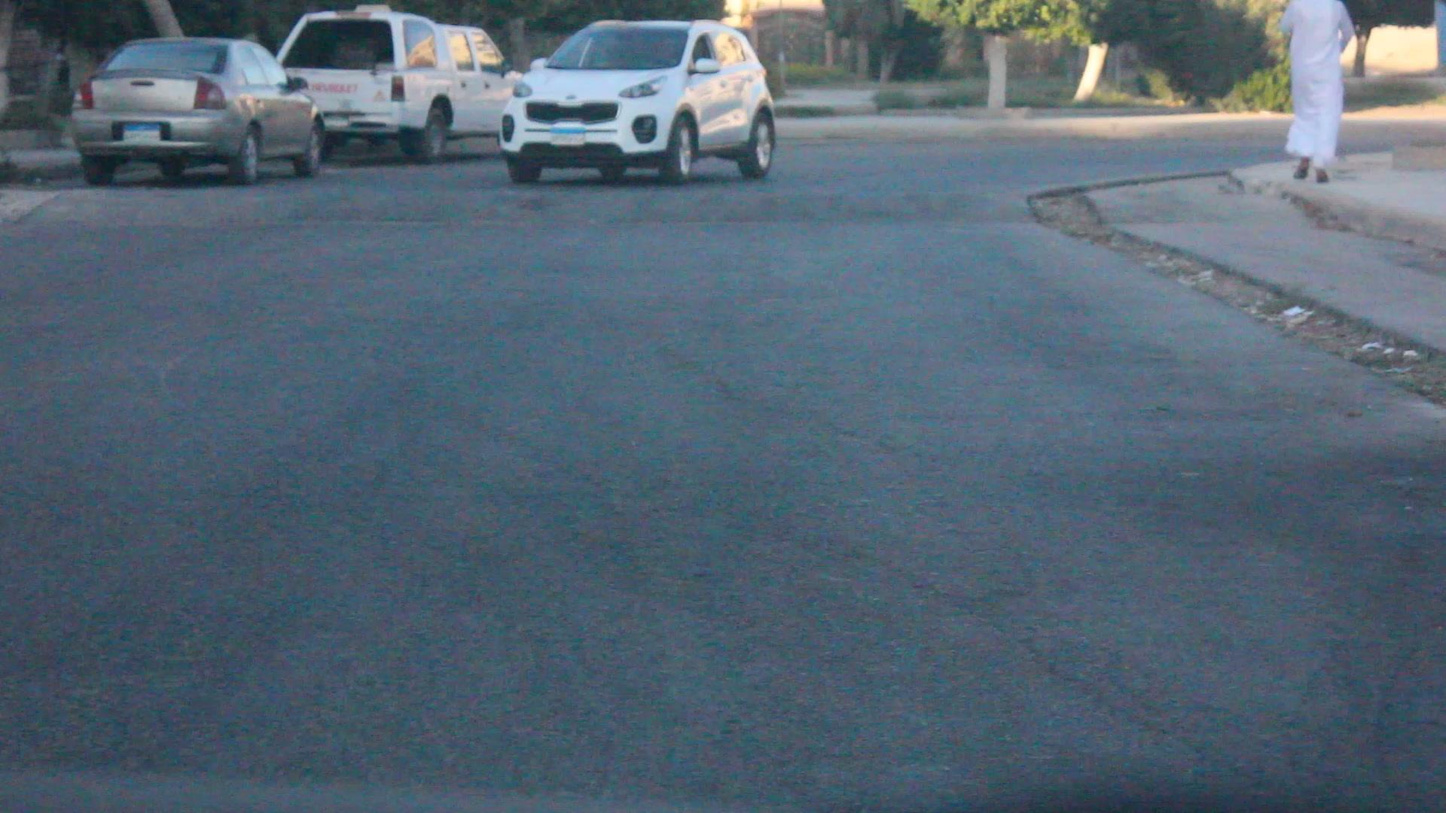Bump: (34, 181, 1049, 224)
